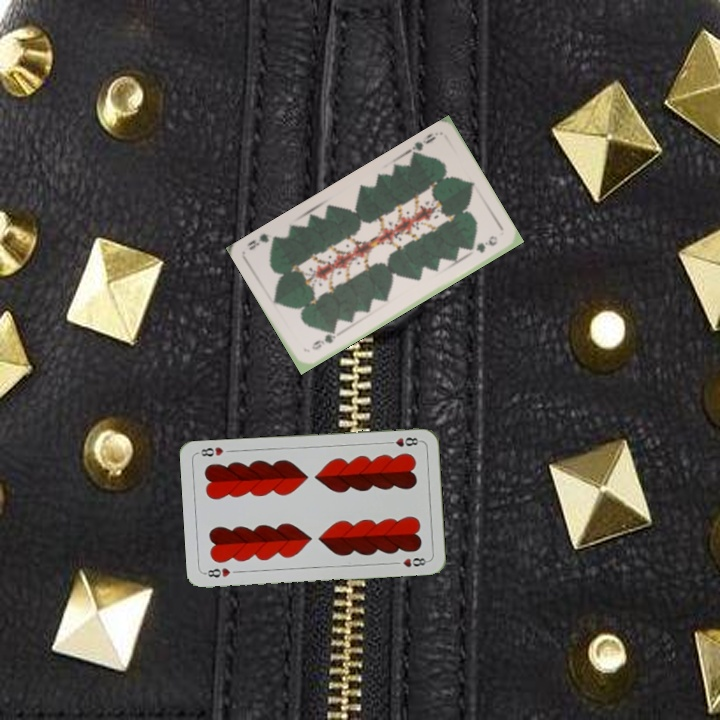G9: (404, 129, 439, 160), (308, 327, 339, 353)
H8: (382, 433, 423, 449), (201, 564, 233, 580)
